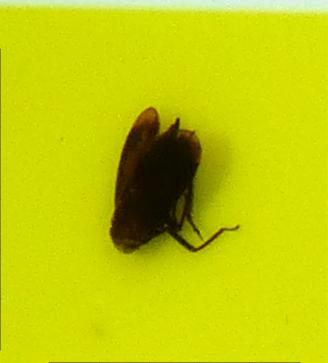Homoptera: (110, 108, 228, 254)
